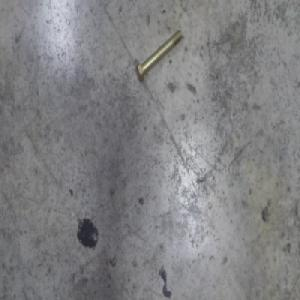Bolt: (134, 28, 184, 82)
